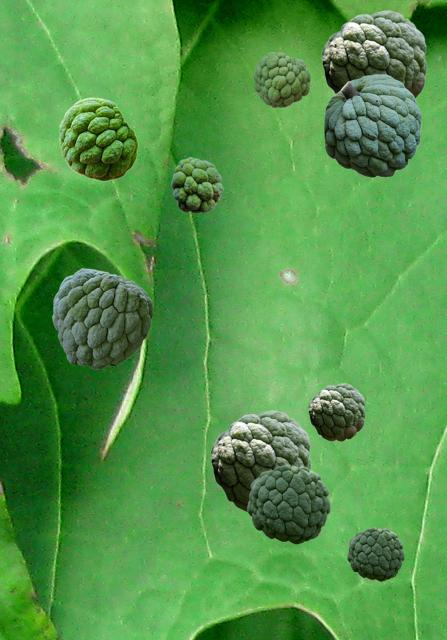atis: (210, 410, 310, 512), (52, 268, 152, 368), (324, 74, 420, 176), (321, 10, 426, 98), (247, 464, 329, 543), (59, 97, 137, 180), (308, 383, 364, 440), (253, 52, 309, 106), (347, 527, 403, 580), (171, 157, 222, 212)
